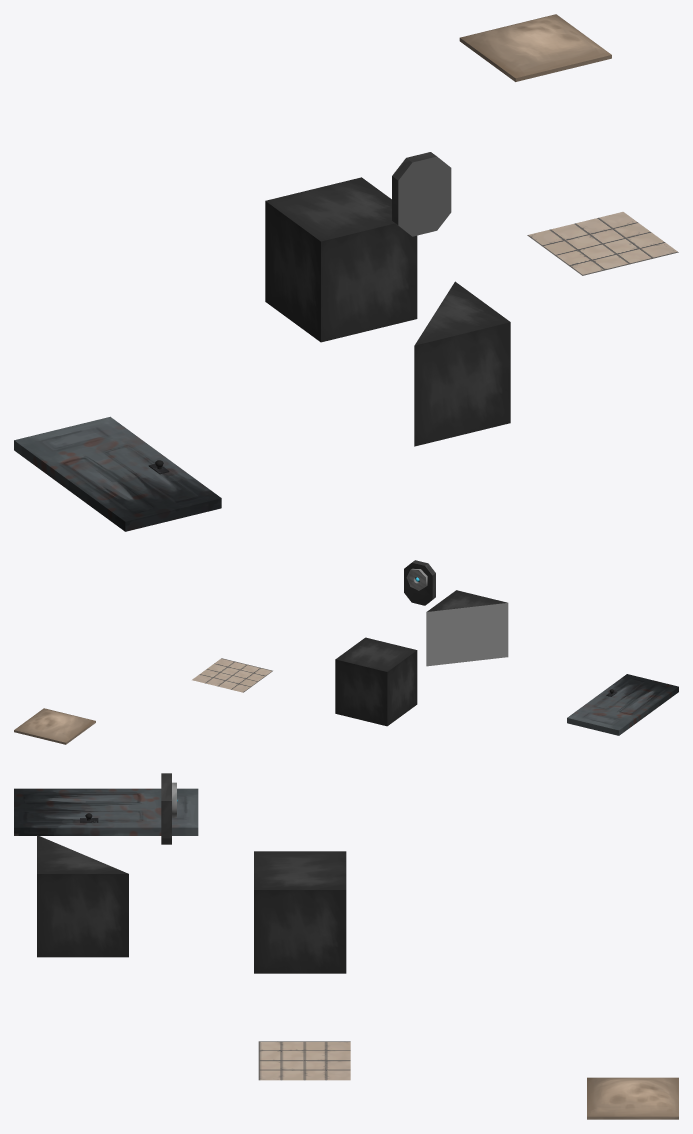
The model's file is murs5.FBX.
3 renders of one model, top to bottom at view 1: azimuth 30°, elevation 25°; view 2: azimuth 150°, elevation 25°; view 3: azimuth 270°, elevation 25°, orthographic. The views are drawn at different scales.
Visible parts, largest first — view 1: cube, Box001, fromage001, Box005, Plane001, interrupteur; view 2: cube, fromage001, Box001, Box005, Plane001, interrupteur, Cylinder001; view 3: cube, fromage001, Box001, Box005, Plane001, interrupteur.
Boxes of the visible parts, x1,y1,x2,y2 form: cube: (265,177,417,342); Box001: (14,416,221,531); fromage001: (414,281,510,446); Box005: (459,14,611,81); Plane001: (527,212,678,275); interrupteur: (392,152,451,236); cube: (335,637,417,726); fromage001: (426,590,508,666); Box001: (567,674,678,735); Box005: (14,708,95,744); Plane001: (192,658,272,692); interrupteur: (404,560,435,605); Cylinder001: (406,568,427,590); cube: (254,851,346,973); fromage001: (37,835,128,957); Box001: (14,788,198,835); Box005: (587,1077,678,1119); Plane001: (258,1041,350,1080); interrupteur: (161,773,171,844).
Bounding box in the file's own units: 864 × 210 × 722.
